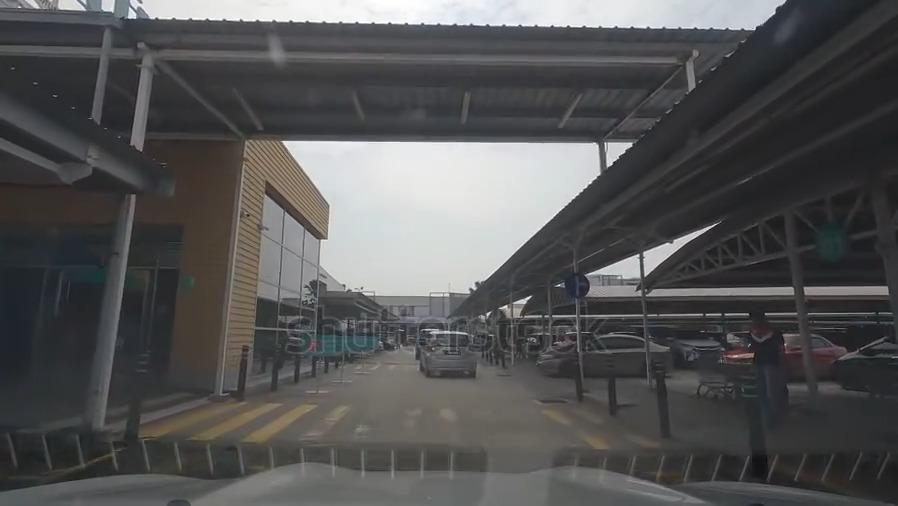car: (537, 335, 673, 379), (718, 334, 850, 379), (829, 347, 898, 394), (418, 330, 477, 375), (662, 328, 724, 362), (417, 327, 438, 356)
manhole: (534, 393, 568, 409)
pedestrian: (124, 404, 649, 440), (329, 365, 513, 372)
person: (744, 308, 793, 427)
